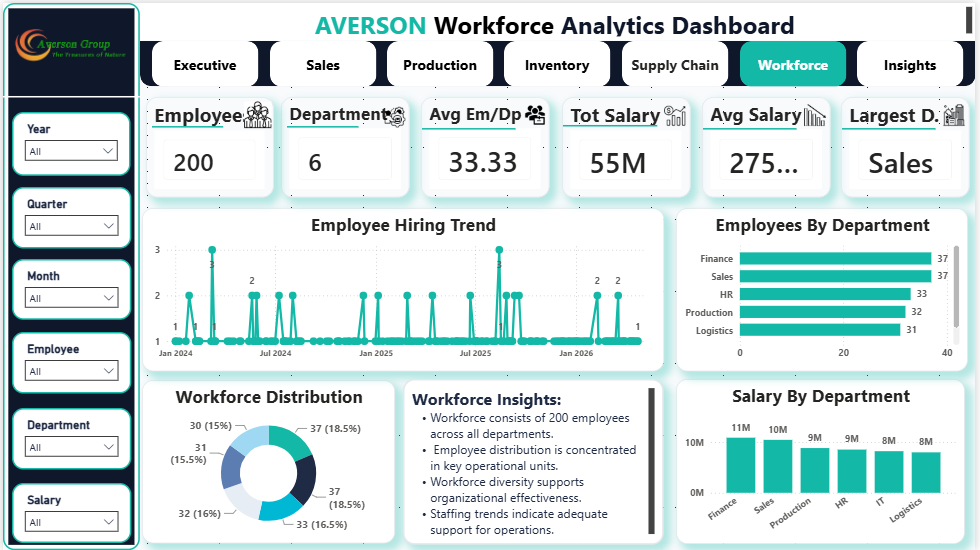

This screenshot's page, from the dashboard's own definition file:
{"tool":"powerbi","page":{"name":"Workforce Analysis","canvas":[1280,720],"ordinal":5},"visuals":[{"type":"shape","box":[0,0,180,720],"z":0,"group":"g19"},{"type":"group","id":"g1","title":"Group 2","box":[196.4,49.5,140,60],"z":0,"group":"g14"},{"type":"shape","box":[196.4,49.5,140,60],"z":0,"group":"g1"},{"type":"group","id":"g2","title":"Group 2","box":[351.1,49.5,140,60],"z":0,"group":"g16"},{"type":"shape","box":[351.1,49.5,140,60],"z":0,"group":"g2"},{"type":"group","id":"g3","title":"Group 2","box":[505.3,49.5,140,60],"z":0,"group":"g17"},{"type":"shape","box":[505.3,49.5,140,60],"z":0,"group":"g3"},{"type":"group","id":"g4","title":"Group 2","box":[659.9,49.5,140,60],"z":0,"group":"g20"},{"type":"shape","box":[659.9,49.5,140,60],"z":0,"group":"g4"},{"type":"group","id":"g5","title":"Group 2","box":[815.4,49.5,140,60],"z":0,"group":"g21"},{"type":"shape","box":[815.4,49.5,140,60],"z":0,"group":"g5"},{"type":"group","id":"g6","title":"Group 2","box":[969.8,49.5,140,60],"z":0,"group":"g22"},{"type":"shape","box":[969.8,49.5,140,60],"z":0,"group":"g6"},{"type":"group","id":"g7","title":"Group 2","box":[1124.4,49.5,140,60],"z":0,"group":"g23"},{"type":"shape","box":[1124.4,49.5,140,60],"z":0,"group":"g7"},{"type":"cardVisual","title":"Employees","fields":{"Data":["My Executive Dashboard Measures.Total Employees"]},"box":[188,123.6,167.8,132],"z":0,"group":"g10"},{"type":"group","id":"g8","title":"Group 5","box":[366,123.6,169,132],"z":0,"group":"g18"},{"type":"cardVisual","title":"Department","fields":{"Data":["My Workforce Dashboard Measures.Total Departments"]},"box":[366,123.6,169,132],"z":0,"group":"g8"},{"type":"cardVisual","title":"Avg Em/Dp","fields":{"Data":["My Workforce Dashboard Measures.Avg Employees Per Department"]},"box":[550.2,123.6,169,132],"z":0,"group":"g12"},{"type":"group","id":"g9","title":"Group 6","box":[735.5,123.6,169,132.4],"z":0,"group":"g11"},{"type":"cardVisual","title":"Tot Salary","fields":{"Data":["My Workforce Dashboard Measures.Total Salary"]},"box":[735.5,123.6,169,132.4],"z":0,"group":"g9"},{"type":"cardVisual","title":"Avg Salary","fields":{"Data":["My Workforce Dashboard Measures.Average Salary"]},"box":[919.8,123.6,169,132],"z":0,"group":"g13"},{"type":"cardVisual","title":"Largest D.","fields":{"Data":["My Workforce Dashboard Measures.Largest Department"]},"box":[1101.8,123.6,169,132],"z":0,"group":"g24"},{"type":"donutChart","title":"Workforce Distribution","fields":{"Category":["Departments.DepartmentName"],"Y":["My Executive Dashboard Measures.Total Employees"]},"box":[183.3,496,333.1,215.3],"z":0},{"type":"textbox","box":[196.4,62.6,139.6,34.9],"z":1000,"group":"g1"},{"type":"textbox","box":[351.1,62.6,139.6,34.9],"z":1000,"group":"g2"},{"type":"textbox","box":[505.3,62.6,139.6,34.9],"z":1000,"group":"g3"},{"type":"textbox","box":[659.9,62.6,139.6,34.9],"z":1000,"group":"g4"},{"type":"textbox","box":[815.4,62.6,139.6,34.9],"z":1000,"group":"g5"},{"type":"textbox","box":[969.8,62.6,139.6,34.9],"z":1000,"group":"g6"},{"type":"textbox","box":[1124.4,62.6,139.6,34.9],"z":1000,"group":"g7"},{"type":"group","id":"g10","title":"Group 5","box":[188,123.6,167.8,132],"z":1000,"group":"g18"},{"type":"shape","box":[737,151.2,124.1,20.4],"z":1000,"group":"g9"},{"type":"shape","box":[196.1,153.2,93.6,20.6],"z":1000,"group":"g10"},{"type":"shape","box":[374.1,153.2,94.3,20.6],"z":1000,"group":"g8"},{"type":"shape","box":[552,155.2,123.4,20.6],"z":1000,"group":"g12"},{"type":"shape","box":[921.6,155.2,123.4,20.6],"z":1000,"group":"g13"},{"type":"shape","box":[1103.6,155.2,123.4,20.6],"z":1000,"group":"g24"},{"type":"lineChart","title":"Employee Hiring Trend","fields":{"Y":["My Executive Dashboard Measures.Total Employees"],"Category":["Employees.HireDate.Variation.Date Hierarchy.Year","Employees.HireDate.Variation.Date Hierarchy.Quarter","Employees.HireDate.Variation.Date Hierarchy.Month","Employees.HireDate.Variation.Date Hierarchy.Day"]},"box":[183.3,269.1,686.5,215.3],"z":1000},{"type":"group","id":"g11","title":"Group 5","box":[735.5,123.6,169,132.4],"z":2000,"group":"g18"},{"type":"image","box":[317.5,128,36.4,39.3],"z":2000,"group":"g10"},{"type":"image","box":[685.5,129.4,29.1,36.4],"z":2000,"group":"g12"},{"type":"image","box":[1053.6,129.4,29.1,36.4],"z":2000,"group":"g13"},{"type":"image","box":[1235.6,129.4,29.1,36.4],"z":2000,"group":"g24"},{"type":"image","box":[869.1,130.1,28.4,36.4],"z":2000,"group":"g9"},{"type":"image","box":[501.3,130.9,29.1,36.4],"z":2000,"group":"g8"},{"type":"columnChart","title":"Salary By Department","fields":{"Category":["Departments.DepartmentName"],"Y":["Sum(Employees.Salary)"]},"box":[885.8,494.5,379.6,216.7],"z":2000},{"type":"textbox","box":[180.4,0,1099.6,49.5],"z":3000},{"type":"group","id":"g12","title":"Group 7","box":[550.2,123.6,169,132],"z":3000,"group":"g18"},{"type":"group","id":"g13","title":"Group 7","box":[919.8,123.6,169,132],"z":4000,"group":"g18"},{"type":"textbox","box":[526.5,494.5,343.3,218.2],"z":4000},{"type":"clusteredBarChart","title":"Employees By Department","fields":{"Y":["My Executive Dashboard Measures.Total Employees"],"Category":["Departments.DepartmentName"]},"box":[885.8,269.1,384,215.3],"z":5000},{"type":"shape","box":[11.6,625.5,155.6,84.4],"z":6000},{"type":"shape","box":[11.6,528,157.1,94.5],"z":7000},{"type":"shape","box":[11.6,430.5,157.1,94.5],"z":8000},{"type":"shape","box":[11.6,331.6,157.1,94.5],"z":9000},{"type":"shape","box":[11.6,232.7,157.1,94.5],"z":10000},{"type":"image","box":[11.6,0,157.1,109.1],"z":11000,"group":"g19"},{"type":"shape","box":[11.6,133.8,157.1,94.5],"z":11000},{"type":"shape","box":[180.4,49.5,1099.6,59.6],"z":12000},{"type":"group","id":"g14","title":"Group 1","box":[196.4,49.5,140,60],"z":12000,"group":"g15"},{"type":"shape","box":[0,113.5,180.4,20.4],"z":12000,"group":"g19"},{"type":"group","id":"g15","title":"Group 11","box":[196.4,49.5,1067.6,60],"z":13000},{"type":"group","id":"g16","title":"Group 1","box":[351.1,49.5,139.6,59.6],"z":13000,"group":"g15"},{"type":"slicer","fields":{"Values":["Calendar.Year"]},"box":[12,144,156,84],"z":13000,"group":"g19"},{"type":"group","id":"g17","title":"Group 1","box":[505.3,49.5,139.6,59.6],"z":14000,"group":"g15"},{"type":"group","id":"g18","title":"Group 3","box":[188,123.6,1082.6,132.4],"z":14000},{"type":"slicer","fields":{"Values":["Calendar.Quarter"]},"box":[11.6,241.5,157.1,81.5],"z":14000,"group":"g19"},{"type":"group","id":"g19","title":"Group 4","box":[0,0,180.4,720],"z":15000},{"type":"group","id":"g20","title":"Group 1","box":[659.9,49.5,139.6,59.6],"z":15000,"group":"g15"},{"type":"slicer","fields":{"Values":["Calendar.Month"]},"box":[11.6,337.5,157.1,80],"z":15000,"group":"g19"},{"type":"group","id":"g21","title":"Group 1","box":[815.4,49.5,139.6,59.6],"z":16000,"group":"g15"},{"type":"slicer","fields":{"Values":["Employees.FullName"]},"box":[11.6,433.5,157.1,81.5],"z":16000,"group":"g19"},{"type":"group","id":"g22","title":"Group 1","box":[969.8,49.5,139.6,59.6],"z":17000,"group":"g15"},{"type":"slicer","fields":{"Values":["Departments.DepartmentName"]},"box":[11.6,532.4,157.1,81.5],"z":17000,"group":"g19"},{"type":"group","id":"g23","title":"Group 1","box":[1124.4,49.5,139.6,59.6],"z":18000,"group":"g15"},{"type":"slicer","fields":{"Values":["Employees.Salary"]},"box":[11.6,631.3,157.1,78.5],"z":18000,"group":"g19"},{"type":"group","id":"g24","title":"Group 7","box":[1101.8,123.6,168.7,132.4],"z":22001,"group":"g18"}]}

Visuals, with their boxes in screenshot pixels (x1, y1, x2, y2), scaled from the page's 1280x720 canvas onto the 980x550 screenshot:
shape: 0/0/138/549
"Group 2" group: 150/38/258/84
shape: 150/38/258/84
"Group 2" group: 269/38/376/84
shape: 269/38/376/84
"Group 2" group: 387/38/494/84
shape: 387/38/494/84
"Group 2" group: 505/38/612/84
shape: 505/38/612/84
"Group 2" group: 624/38/731/84
shape: 624/38/731/84
"Group 2" group: 743/38/850/84
shape: 743/38/850/84
"Group 2" group: 861/38/968/84
shape: 861/38/968/84
"Employees" cardVisual: 144/94/272/195
"Group 5" group: 280/94/410/195
"Department" cardVisual: 280/94/410/195
"Avg Em/Dp" cardVisual: 421/94/551/195
"Group 6" group: 563/94/693/196
"Tot Salary" cardVisual: 563/94/693/196
"Avg Salary" cardVisual: 704/94/834/195
"Largest D." cardVisual: 844/94/973/195
"Workforce Distribution" donutChart: 140/379/395/543
textbox: 150/48/257/74
textbox: 269/48/376/74
textbox: 387/48/494/74
textbox: 505/48/612/74
textbox: 624/48/731/74
textbox: 743/48/849/74
textbox: 861/48/968/74
"Group 5" group: 144/94/272/195
shape: 564/115/659/131
shape: 150/117/222/133
shape: 286/117/359/133
shape: 423/119/517/134
shape: 706/119/800/134
shape: 845/119/939/134
"Employee Hiring Trend" lineChart: 140/206/666/370
"Group 5" group: 563/94/693/196
image: 243/98/271/128
image: 525/99/547/127
image: 807/99/829/127
image: 946/99/968/127
image: 665/99/687/127
image: 384/100/406/128
"Salary By Department" columnChart: 678/378/969/543
textbox: 138/0/979/38
"Group 7" group: 421/94/551/195
"Group 7" group: 704/94/834/195
textbox: 403/378/666/544
"Employees By Department" clusteredBarChart: 678/206/972/370
shape: 9/478/128/542
shape: 9/403/129/476
shape: 9/329/129/401
shape: 9/253/129/325
shape: 9/178/129/250
image: 9/0/129/83
shape: 9/102/129/174
shape: 138/38/979/83
"Group 1" group: 150/38/258/84
shape: 0/87/138/102
"Group 11" group: 150/38/968/84
"Group 1" group: 269/38/376/83
slicer - Calendar.Year: 9/110/129/174
"Group 1" group: 387/38/494/83
"Group 3" group: 144/94/973/196
slicer - Calendar.Quarter: 9/184/129/247
"Group 4" group: 0/0/138/549
"Group 1" group: 505/38/612/83
slicer - Calendar.Month: 9/258/129/319
"Group 1" group: 624/38/731/83
slicer - Employees.FullName: 9/331/129/393
"Group 1" group: 743/38/849/83
slicer - Departments.DepartmentName: 9/407/129/469
"Group 1" group: 861/38/968/83
slicer - Employees.Salary: 9/482/129/542
"Group 7" group: 844/94/973/196
